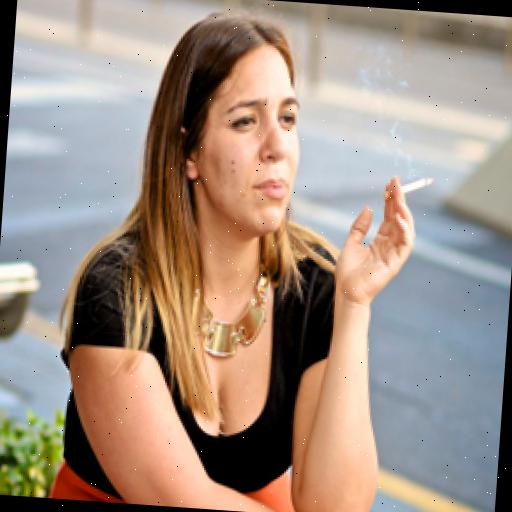terdeteksi pegang rokok: (311, 143, 444, 330)
